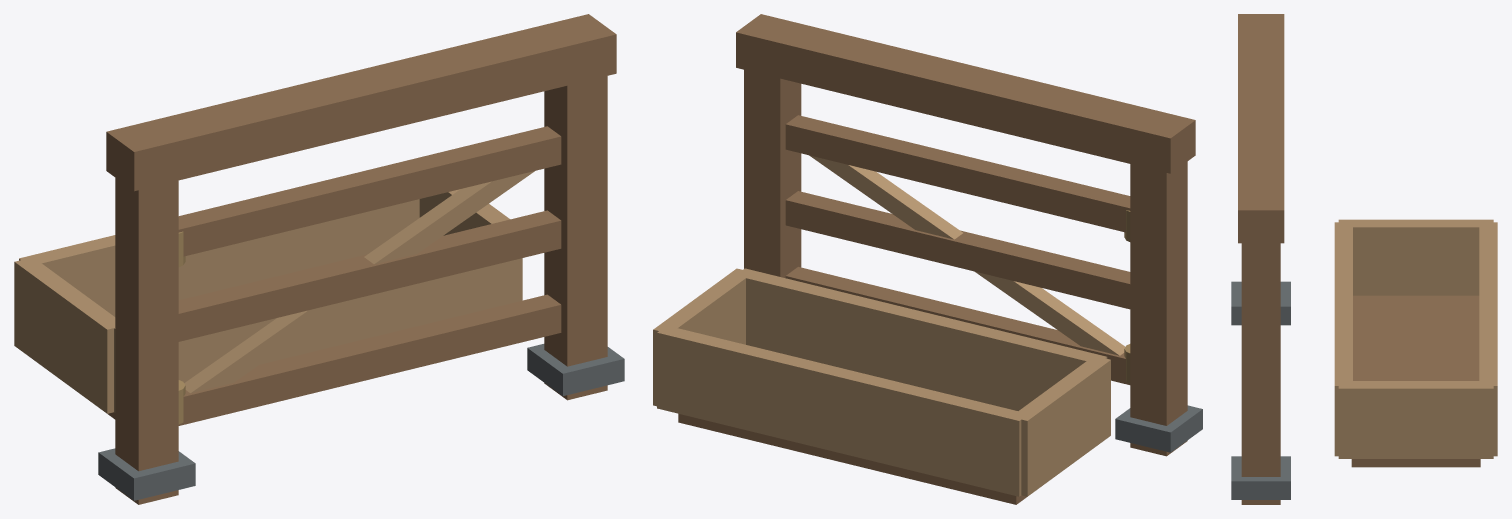
Rendered from vf_livestock_feed_gate.glb.
The picture shows the model from 3 angles, left to right: view 1: azimuth 30°, elevation 25°; view 2: azimuth 150°, elevation 25°; view 3: azimuth 270°, elevation 25°; orthographic projection. The views are drawn at different scales.
Visible parts, largest first — view 1: Static_Oak, Gate_Oak, Static_OakLight, Gate_OakLight, Static_Iron; view 2: Static_OakLight, Static_Oak, Gate_Oak, Gate_OakLight, Static_Iron; view 3: Static_Oak, Static_OakLight, Static_Iron.
Part boxes in pixels (x1,y1,x2,y2): Static_Oak: (106, 14, 616, 504); Gate_Oak: (178, 126, 561, 425); Static_OakLight: (14, 189, 522, 413); Gate_OakLight: (184, 171, 534, 393); Static_Iron: (98, 344, 624, 500); Static_OakLight: (653, 268, 1110, 496); Static_Oak: (678, 14, 1195, 504); Gate_Oak: (785, 115, 1130, 384); Gate_OakLight: (809, 155, 1125, 355); Static_Iron: (1115, 405, 1202, 452); Static_Oak: (1238, 14, 1480, 504); Static_OakLight: (1334, 219, 1497, 458); Static_Iron: (1231, 281, 1290, 499).
Bounding box in the file's own units: 1.83 × 1.27 × 1.03.
